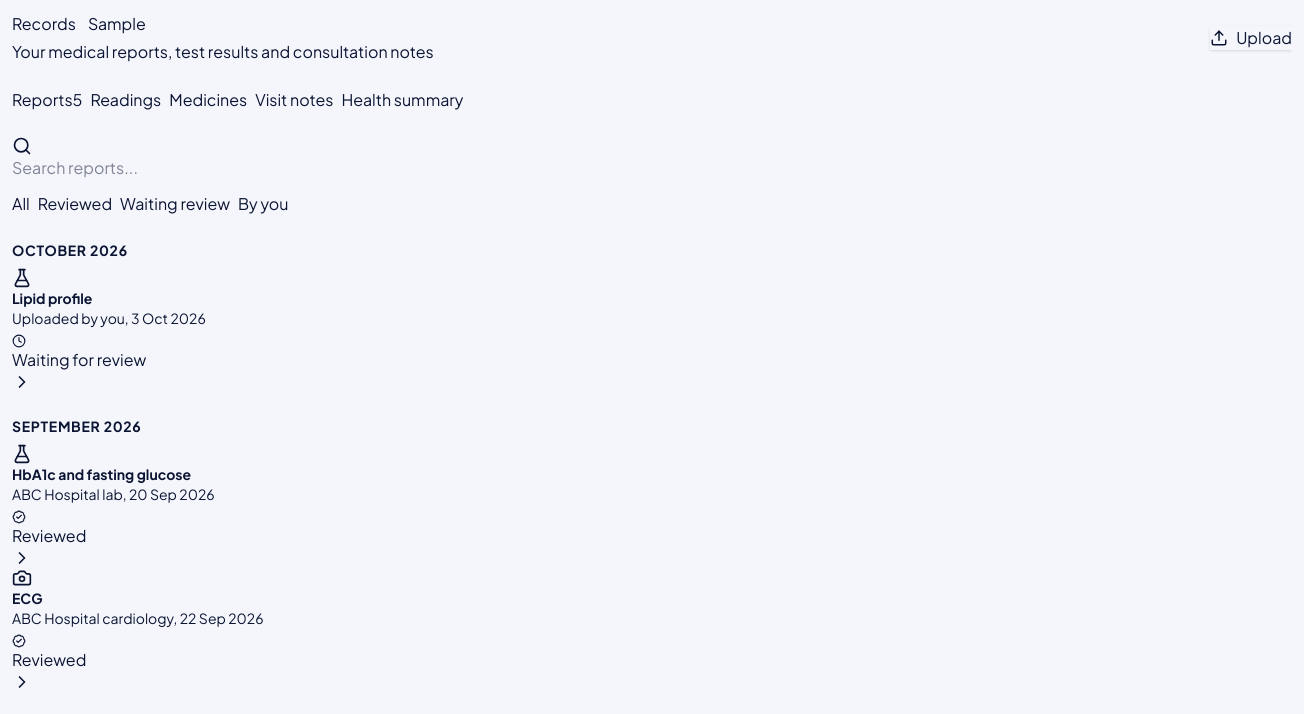
Test: Patient Feature: Records and Reports Screen › switches between tabs: Readings, Medicines, Visits, Summary
The image size is (1304, 714).
Note: Switch to Readings
Click the tab "Readings" at (126, 100), box [90,88,161,112]
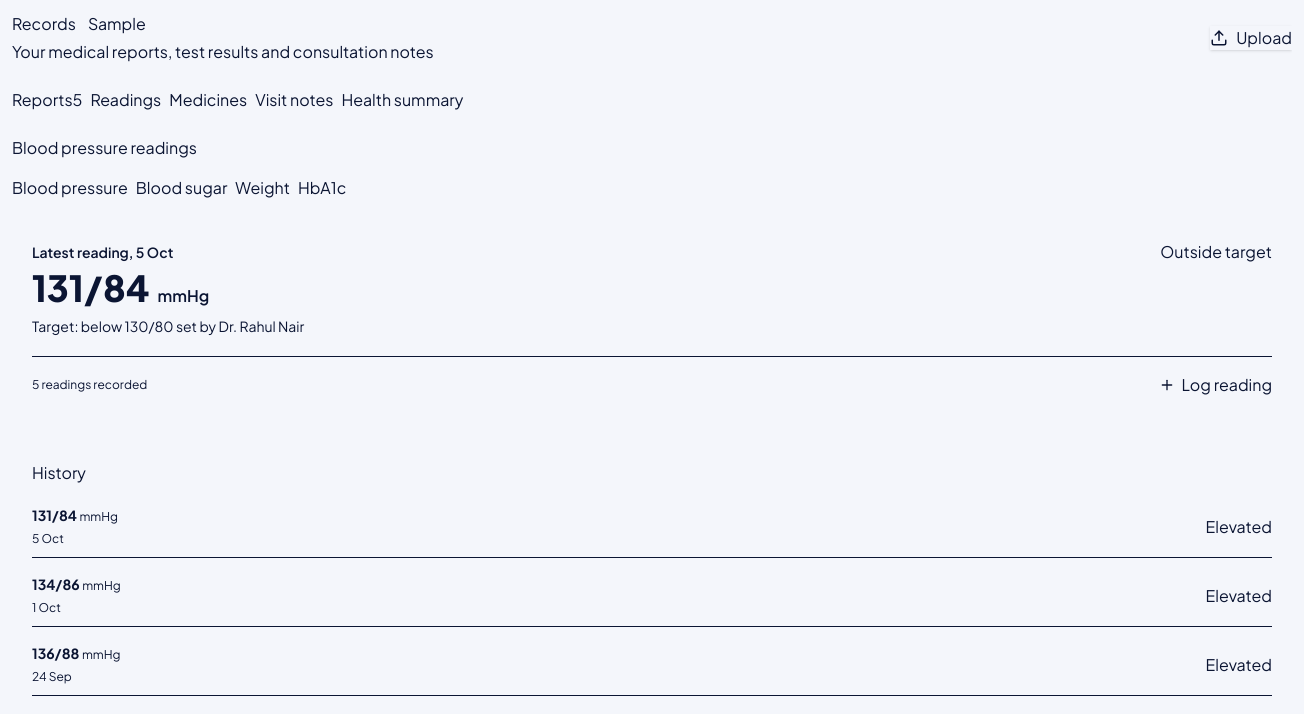
Check: the heading "Blood pressure readings" is shown, box [12,137,197,158]
Note: Switch to Medicines
Click the tab "Medicines" at (208, 100), box [169,88,247,112]
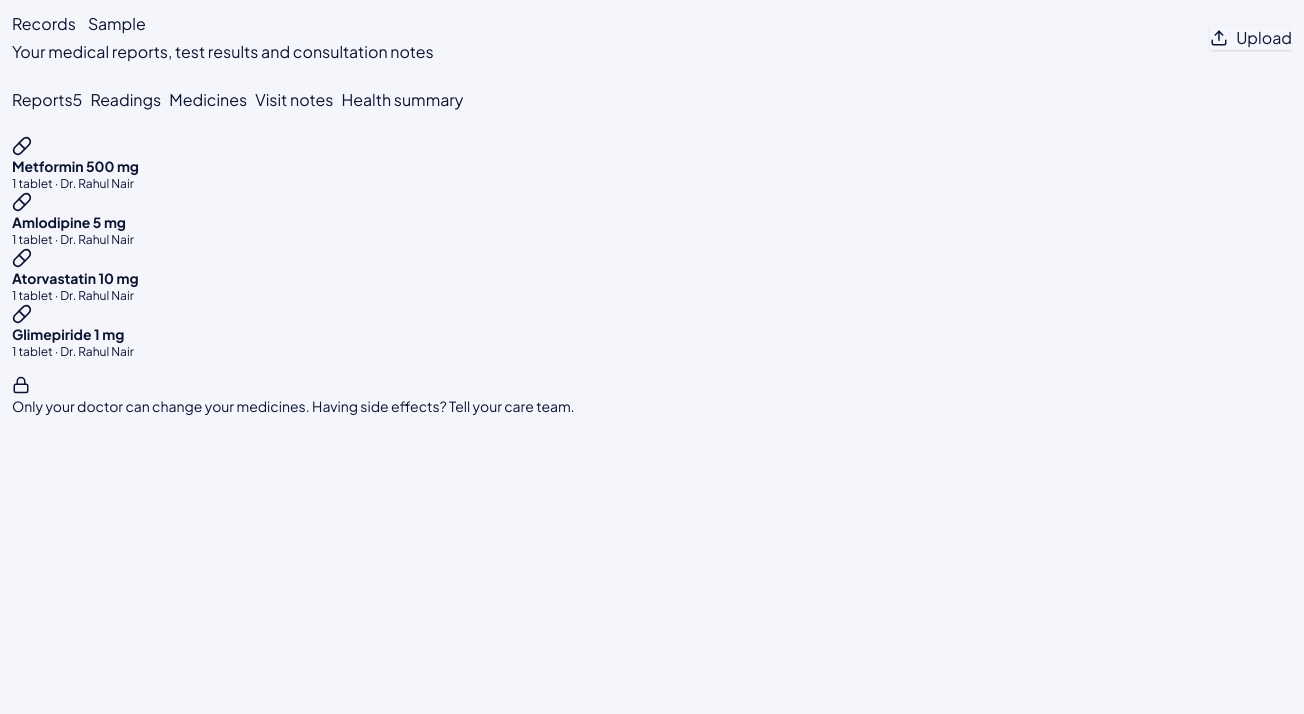
Check: the text "Metformin 500 mg" is shown, box [12,157,139,175]
Note: Switch to Visit notes
Click the tab "Visit notes" at (294, 100), box [255,88,333,112]
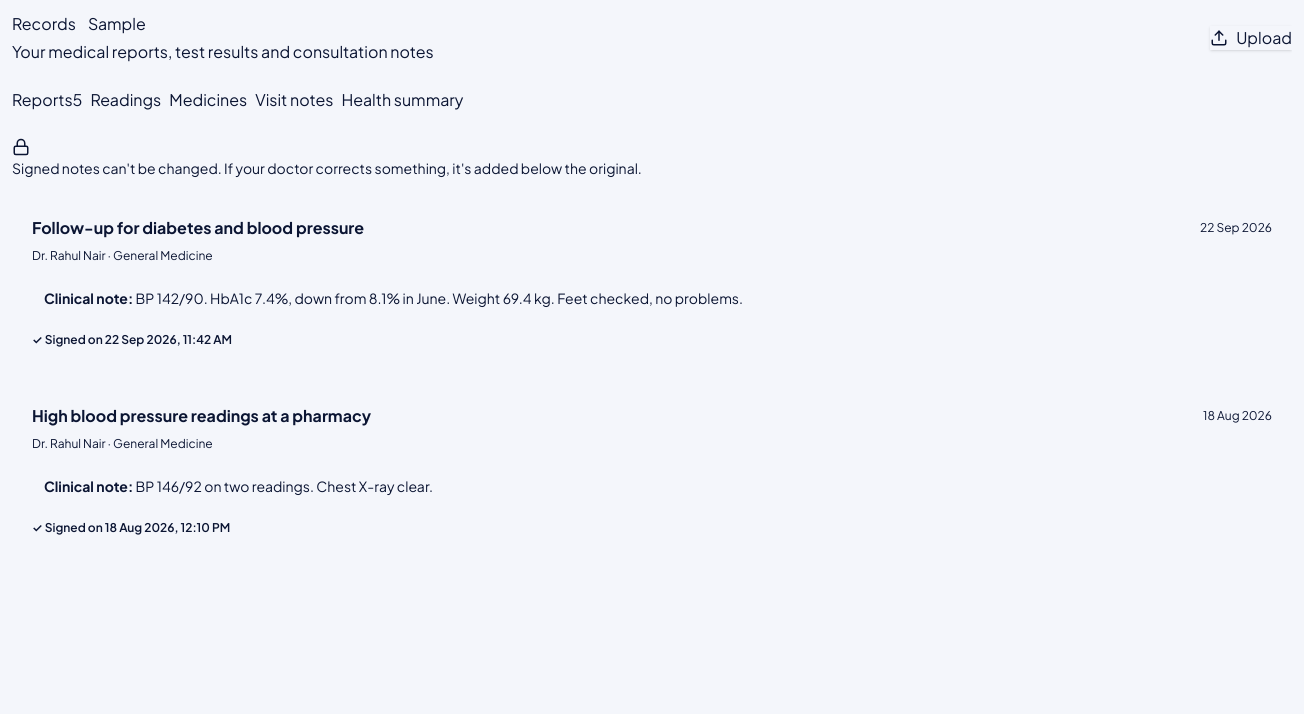
Check: the text "Follow-up for diabetes and blood pressure" is shown, box [32,216,364,240]
Check: the 1st text "Dr. Rahul Nair · General Medicine" is shown, box [32,248,213,263]
Note: Switch to Health summary
Click the tab "Health summary" at (402, 100), box [341,88,463,112]
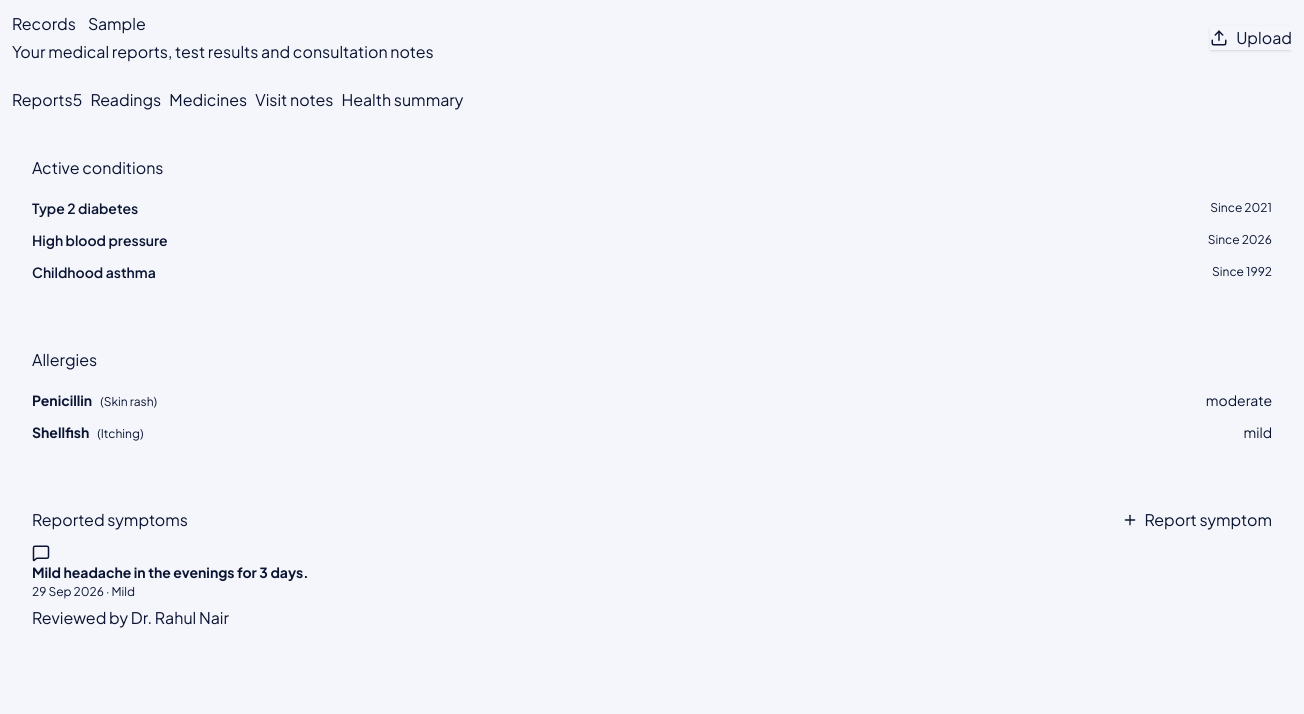
Check: the heading "Active conditions" is shown, box [32,157,164,178]
Check: the heading "Allergies" is shown, box [32,349,97,370]
